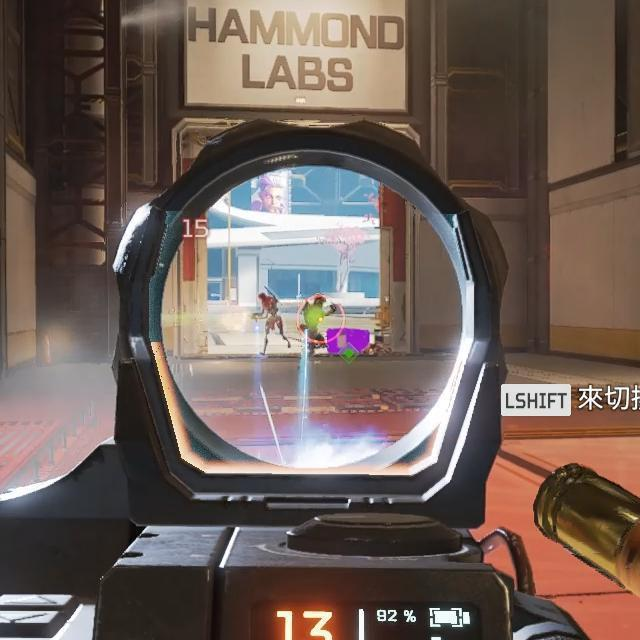avatar: (297, 293, 339, 358), (256, 290, 286, 358)
object: (302, 306, 328, 332)
